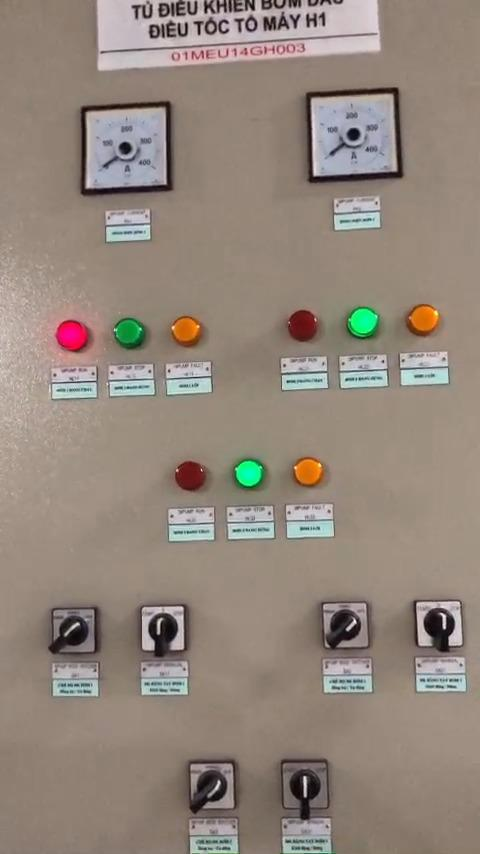led: (347, 305, 383, 340), (55, 321, 93, 354), (284, 309, 319, 344), (175, 456, 210, 491), (112, 318, 148, 352), (235, 454, 269, 490), (291, 454, 325, 489), (174, 312, 205, 346), (410, 304, 440, 336)
twist: (139, 603, 189, 654), (282, 758, 329, 812), (323, 600, 371, 652), (50, 604, 98, 655), (415, 598, 461, 649), (190, 762, 236, 812)
